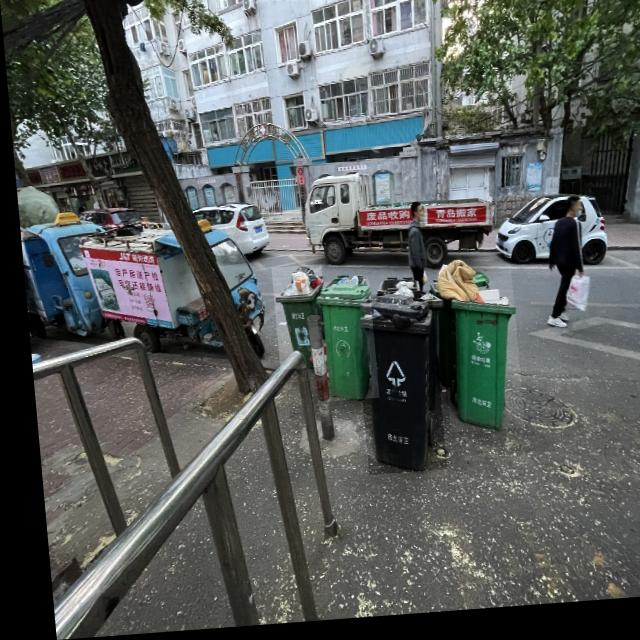garbage_bin: (308, 284, 372, 406)
overflow: (348, 296, 438, 480), (430, 263, 517, 439), (266, 269, 323, 374)
